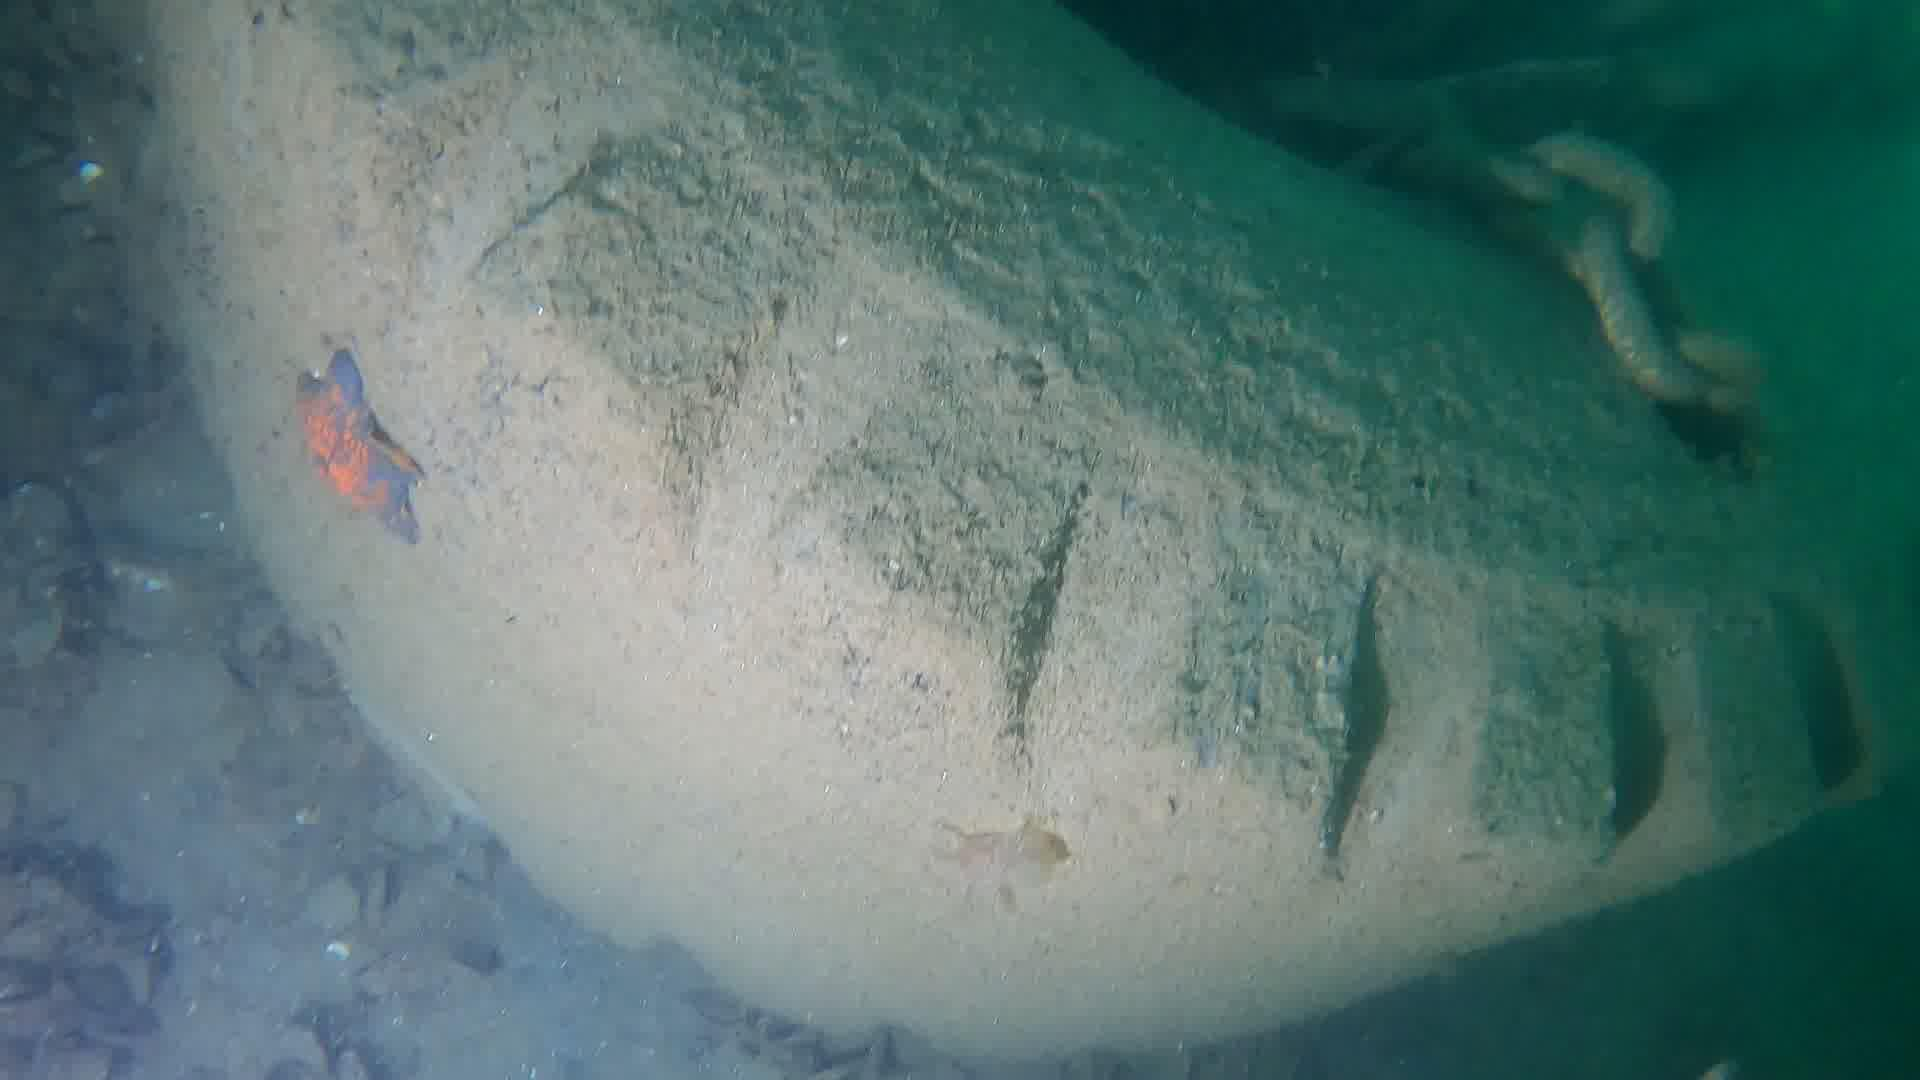tire: (142, 0, 1920, 1064)
